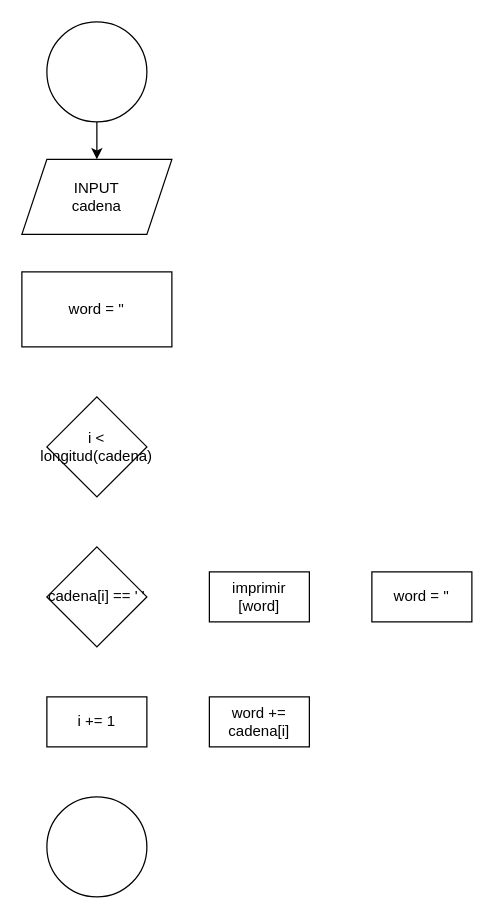
Image size: 494x919. Some labels were removed from this diagram. The shapes that lost their labels are listed below. From the top down, each one's centre as x and y in pixels, then its label:
At (x=96, y=71): "INICIO".
At (x=96, y=846): "FIN".
